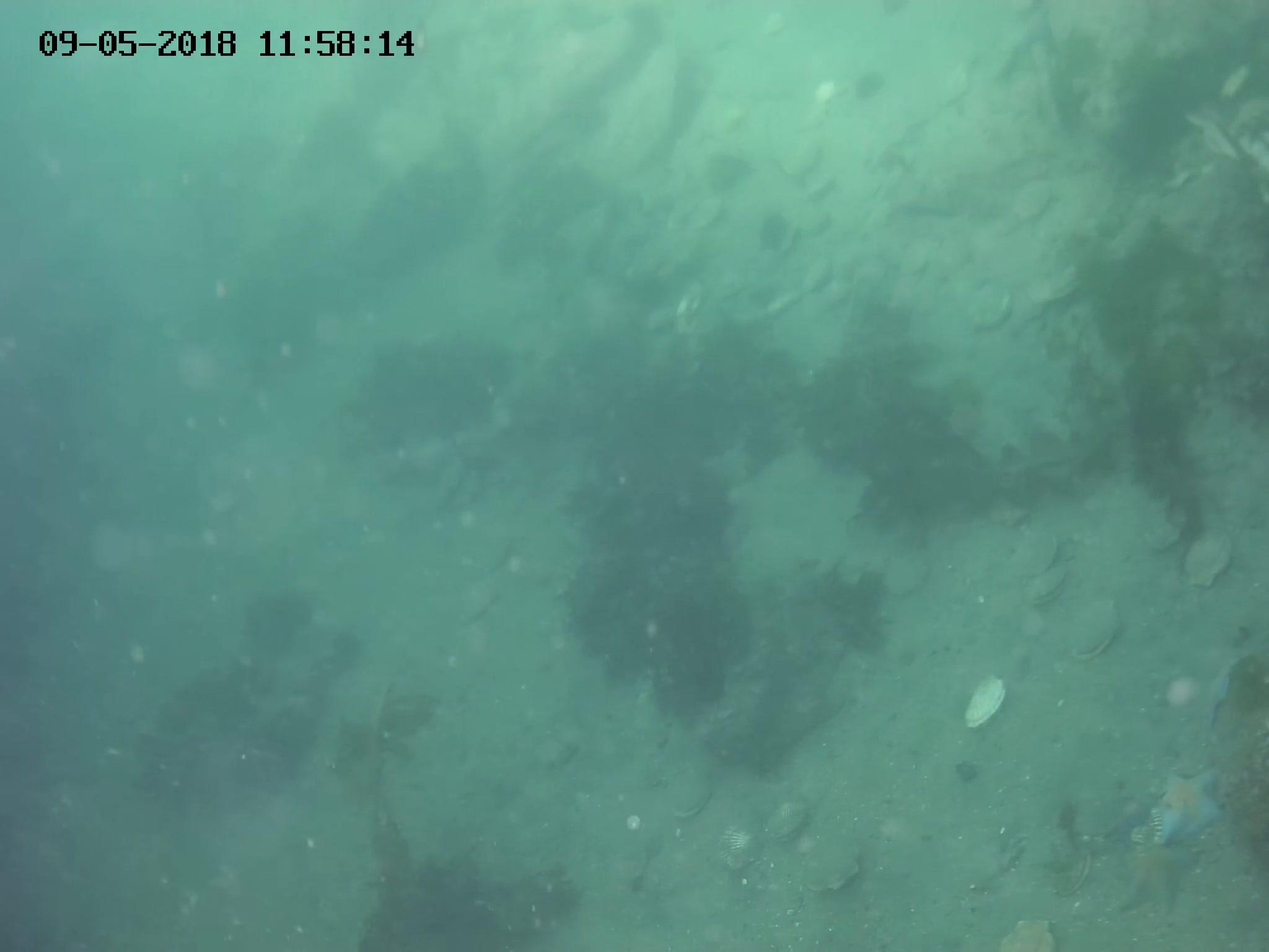holothurian: (1115, 840, 1197, 919), (1154, 764, 1227, 850), (1199, 658, 1239, 738)
scallop: (1069, 601, 1123, 665), (1180, 529, 1237, 589), (805, 847, 866, 896), (965, 677, 1012, 736), (717, 821, 765, 873), (1001, 914, 1063, 952), (879, 558, 931, 602), (1009, 537, 1062, 580), (1027, 271, 1085, 306), (1025, 566, 1073, 608), (470, 536, 515, 580), (968, 291, 1016, 332), (767, 799, 809, 845), (456, 589, 507, 625), (1011, 178, 1053, 221), (672, 785, 714, 821), (781, 144, 825, 177), (675, 281, 706, 326), (690, 196, 731, 227), (1143, 522, 1183, 553), (645, 304, 678, 340), (801, 258, 833, 294), (801, 176, 845, 202), (791, 104, 831, 132), (851, 258, 887, 289), (986, 503, 1032, 527), (794, 209, 835, 232)
